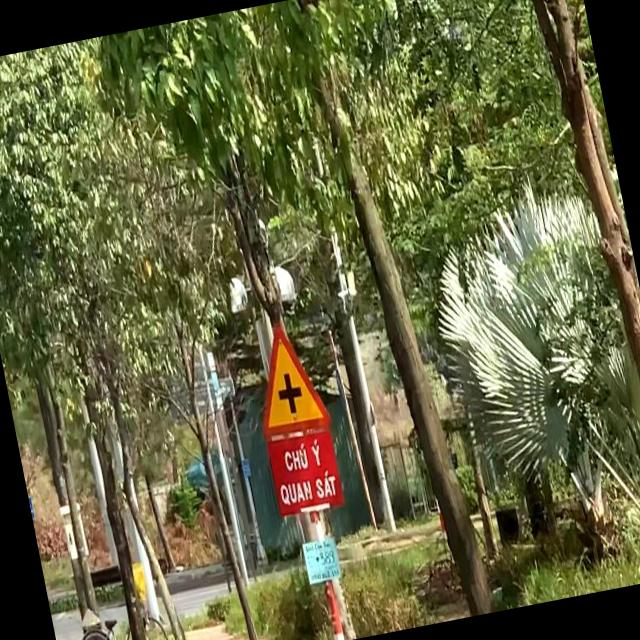W-205a: (240, 318, 330, 442)
